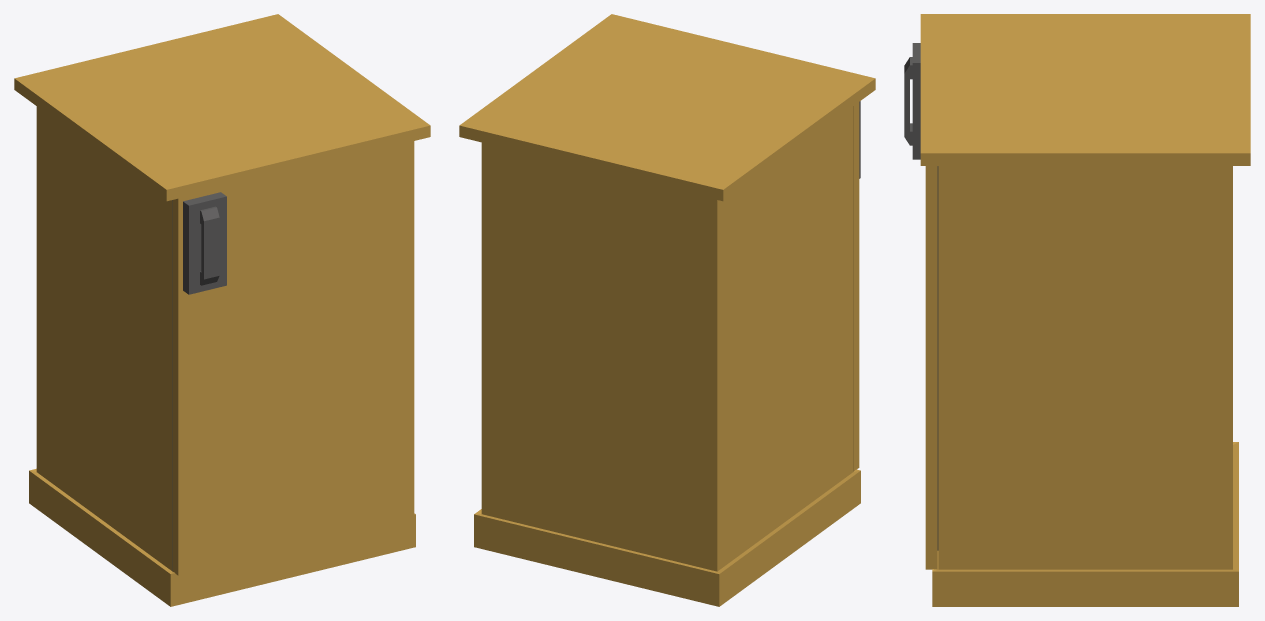
File: freezersmall_01_D.gltf
3 views of the same model, side by side, from view 1: azimuth 30°, elevation 25°; view 2: azimuth 150°, elevation 25°; view 3: azimuth 270°, elevation 25° (orthographic). The views are drawn at different scales.
Parts seen in each view (by area): view 1: freezersmall_01_D, Doorfreezersmall_01_D; view 2: freezersmall_01_D, Doorfreezersmall_01_D; view 3: freezersmall_01_D, Doorfreezersmall_01_D.
Part boxes in pixels (left/top/right/bottom): freezersmall_01_D: left=14, top=14, right=430, bottom=606; Doorfreezersmall_01_D: left=173, top=141, right=414, bottom=575; freezersmall_01_D: left=459, top=14, right=875, bottom=606; Doorfreezersmall_01_D: left=853, top=101, right=860, bottom=471; freezersmall_01_D: left=920, top=14, right=1250, bottom=606; Doorfreezersmall_01_D: left=904, top=43, right=938, bottom=569.
Size of the model in its own units: 0.6717 by 1.03 by 0.7049.
1 material, 1 textured.
